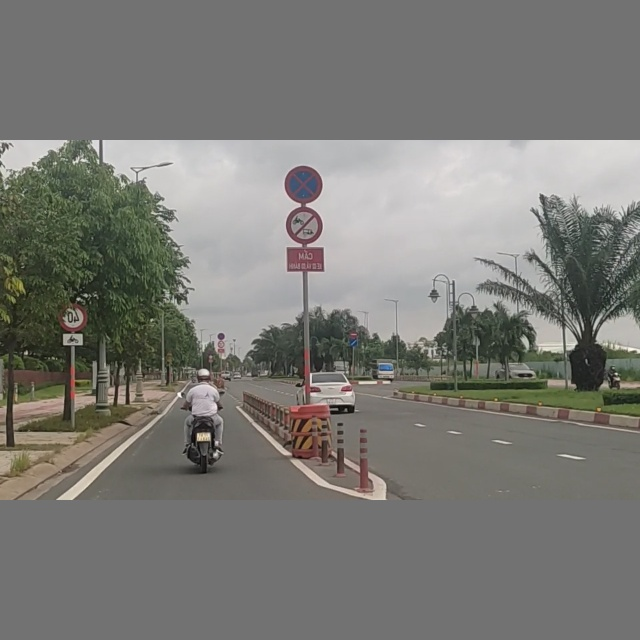P.111: (285, 205, 326, 245)
P.127*40: (58, 302, 87, 332)
P.130: (283, 161, 326, 204)
S.505a*Xe may: (61, 330, 85, 346)
